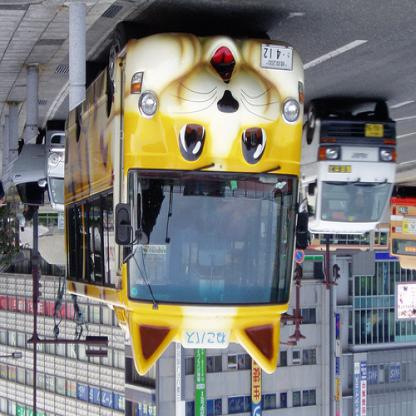bus: (65, 23, 306, 378), (308, 225, 392, 254), (392, 194, 416, 272)
car: (300, 102, 399, 236), (13, 122, 68, 215)
person: (18, 128, 49, 223)
